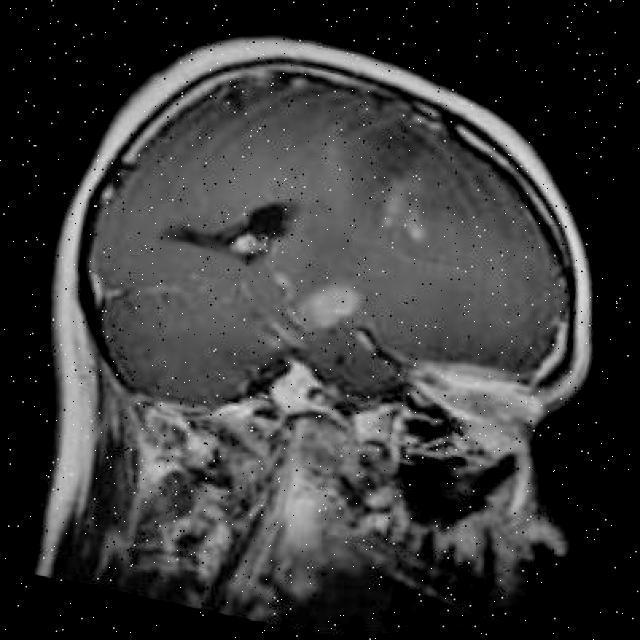MCI: (274, 260, 388, 370)
